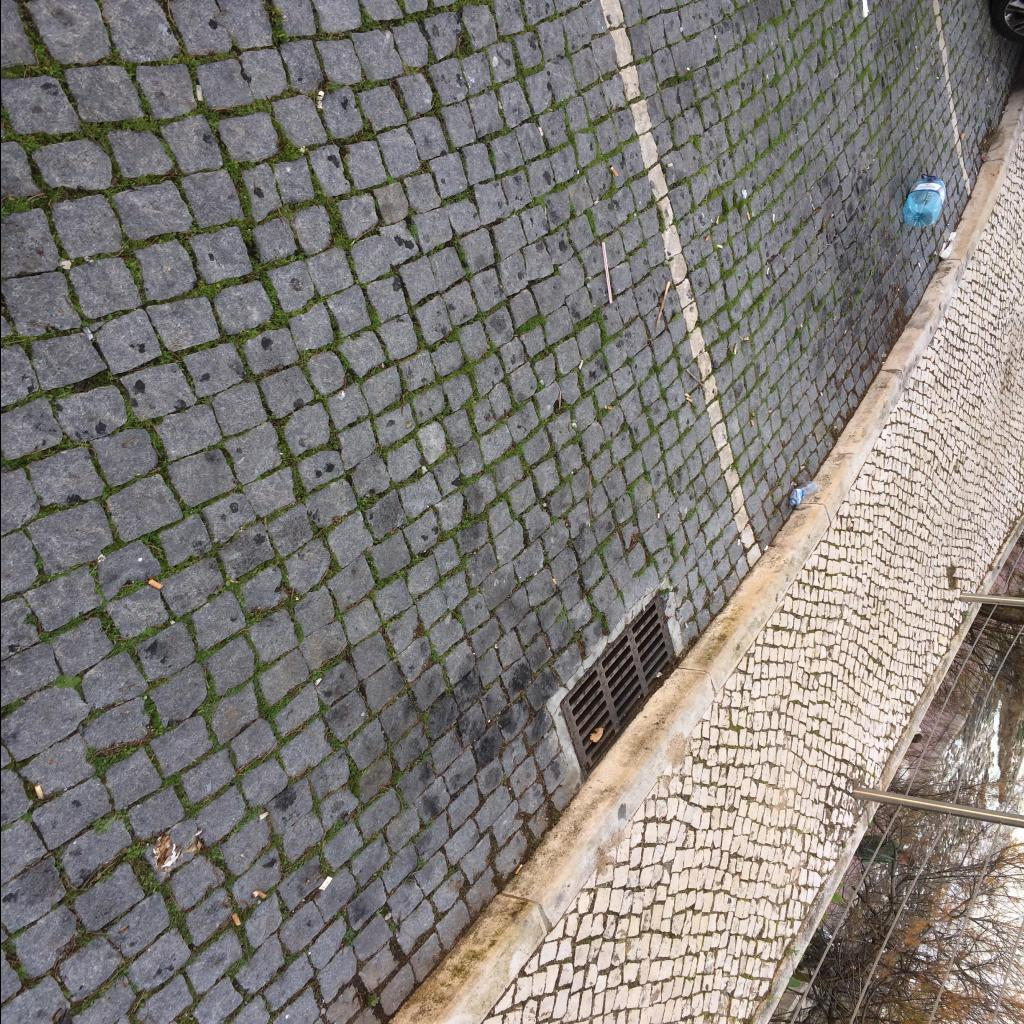Cigarette: (148, 579, 164, 589), (230, 912, 241, 926), (252, 890, 266, 898), (258, 811, 268, 821), (608, 166, 618, 176), (514, 864, 522, 874), (577, 360, 583, 370), (704, 233, 710, 241), (732, 342, 736, 354), (762, 544, 768, 552), (686, 396, 692, 402), (550, 578, 556, 584), (715, 216, 719, 224), (746, 212, 750, 220), (765, 266, 769, 274), (808, 194, 812, 202), (750, 419, 754, 427), (736, 538, 740, 546), (916, 262, 920, 270), (684, 392, 690, 397), (666, 162, 672, 166), (716, 244, 722, 248), (742, 337, 748, 341), (792, 482, 798, 486), (772, 213, 774, 223), (818, 391, 822, 396), (914, 46, 917, 52), (656, 513, 658, 519)
Clear plastic bottle: (902, 174, 945, 227), (788, 480, 817, 506)
